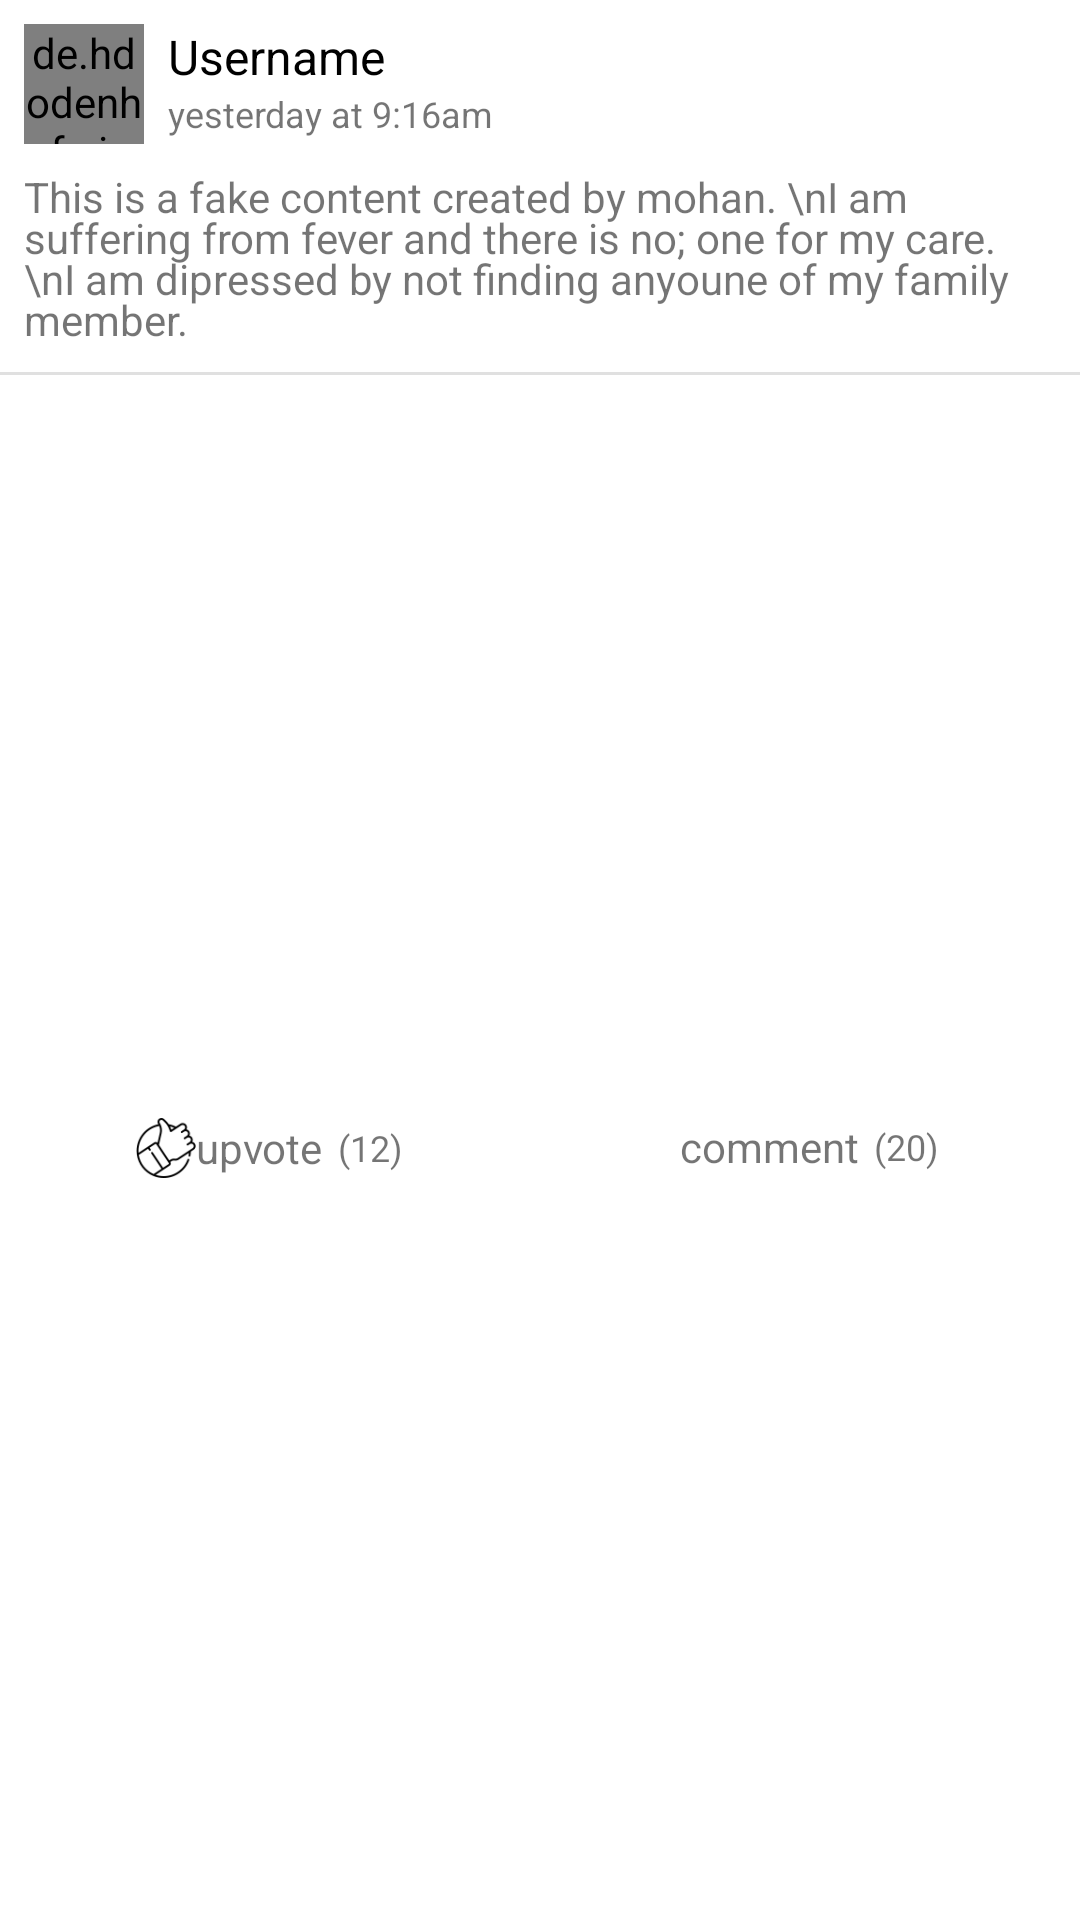

Icon bounding boxes for this 1080*1920 phone screenshot, format [x1,y1,x2,y2]:
good: [136,1118,196,1178]
